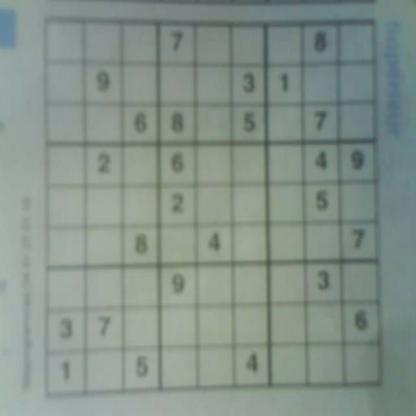sudoku: (40, 13, 388, 404)
